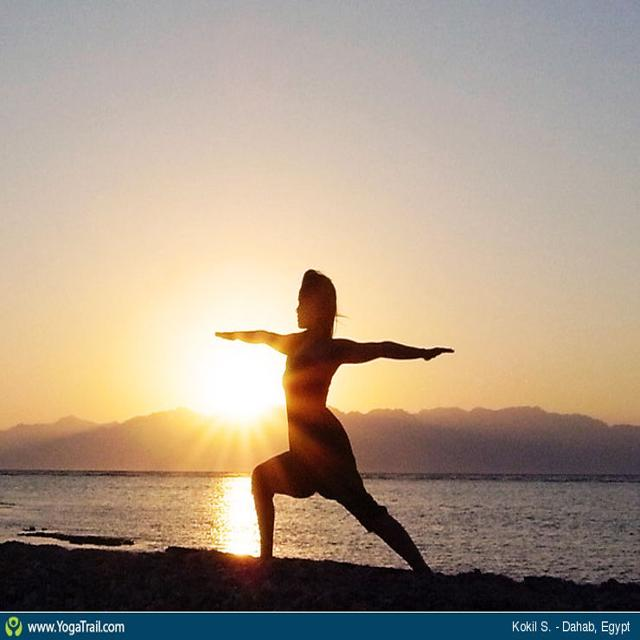Warrior_II: (213, 269, 456, 575)
